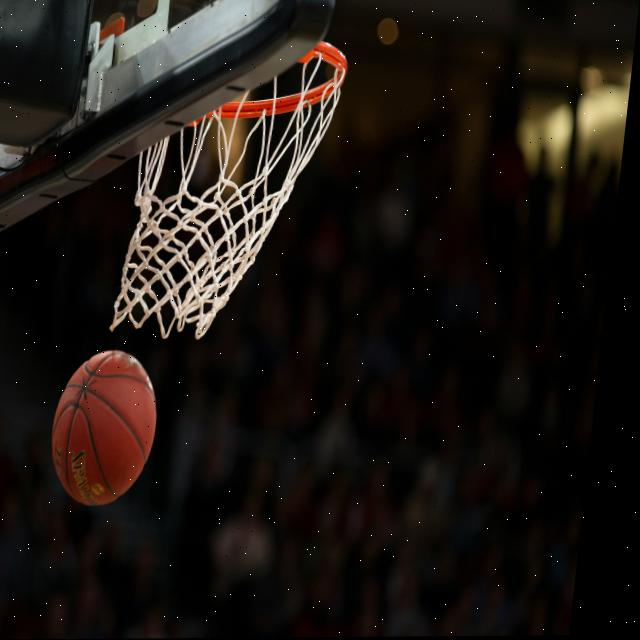Basketball: (45, 350, 164, 506)
